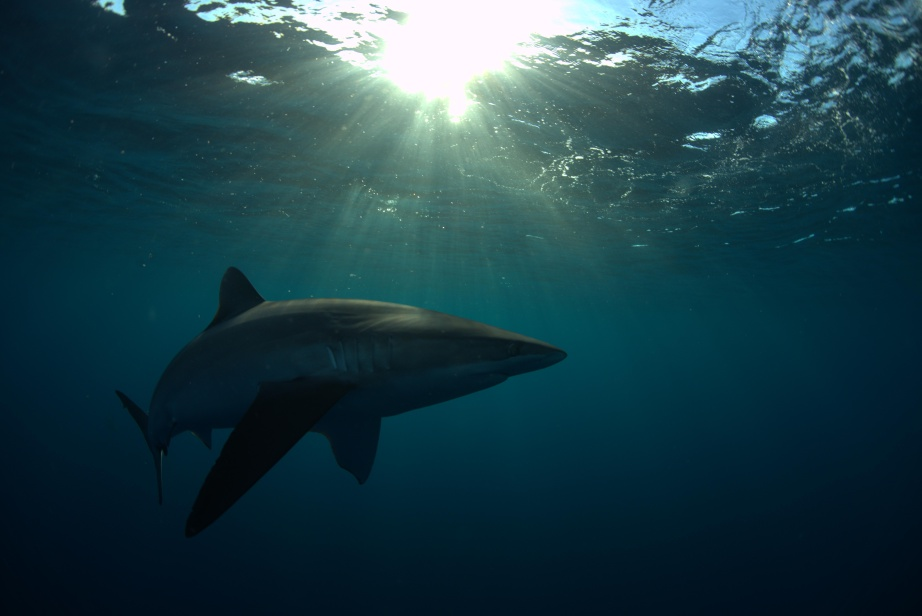Sedoso: (100, 244, 591, 539)
